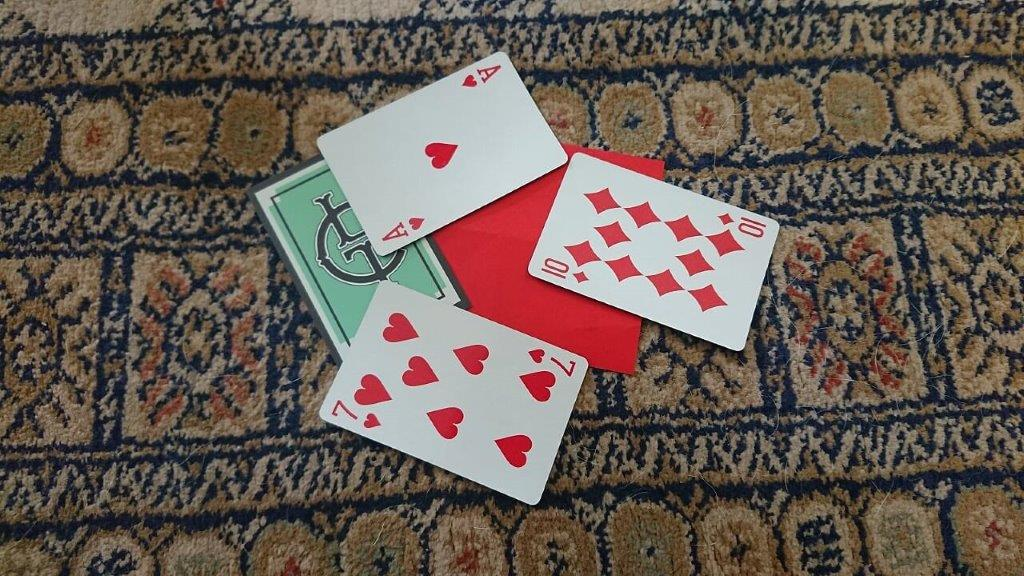10D: (536, 253, 590, 284)
7H: (329, 395, 384, 431)
AH: (460, 59, 504, 92)
